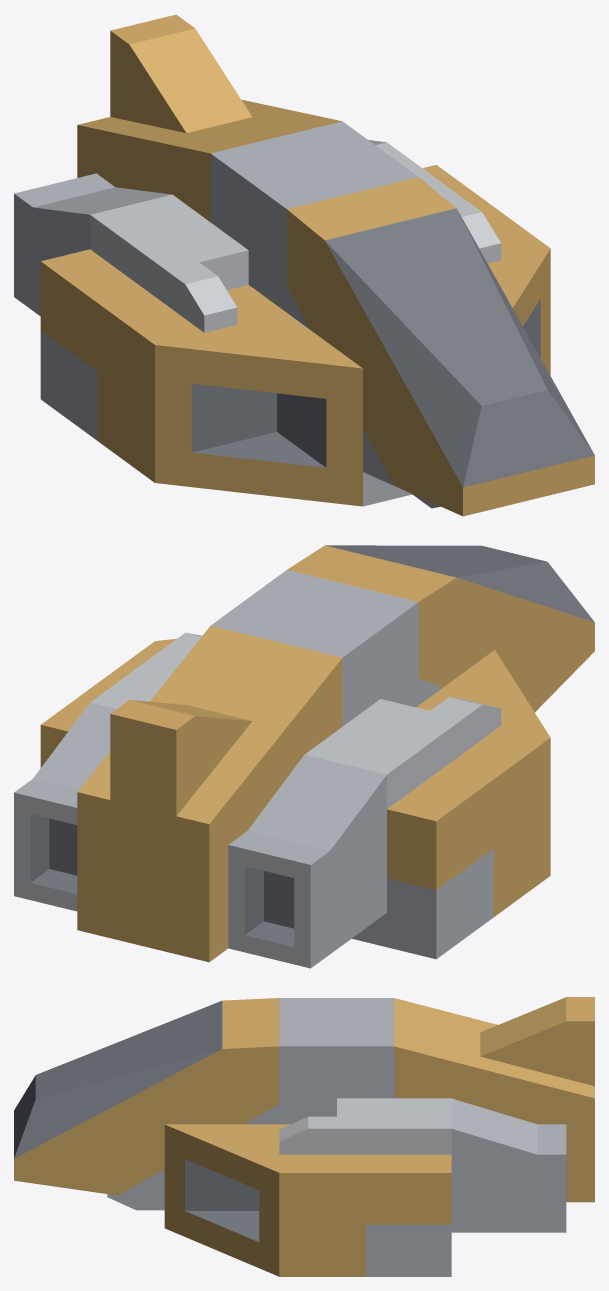
File: craft_racer.glb
3 views of the same model, one above another, from view 1: azimuth 30°, elevation 25°; view 2: azimuth 150°, elevation 25°; view 3: azimuth 270°, elevation 25° (orthographic). The views are drawn at different scales.
Visible parts, largest first — view 1: craft_racer; view 2: craft_racer; view 3: craft_racer.
Boxes of the visible parts, x1,y1,x2,y2 form: craft_racer: (14,14,594,516); craft_racer: (14,545,594,968); craft_racer: (14,997,594,1276).
Size of the model in its own units: 0.5924 by 0.3703 by 1.
